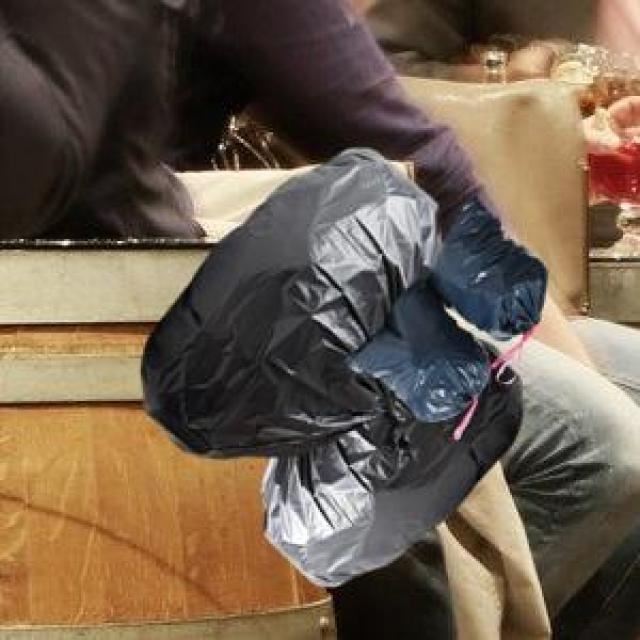waste: (142, 149, 546, 587)
